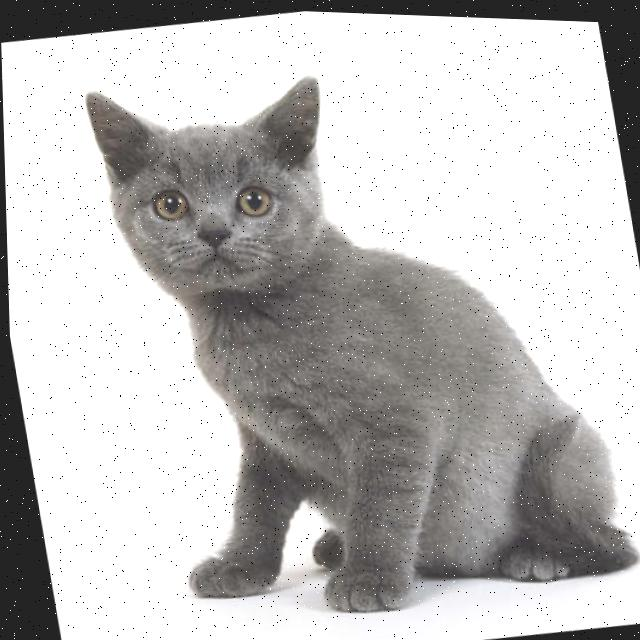British Shorthair: (78, 18, 640, 640)
